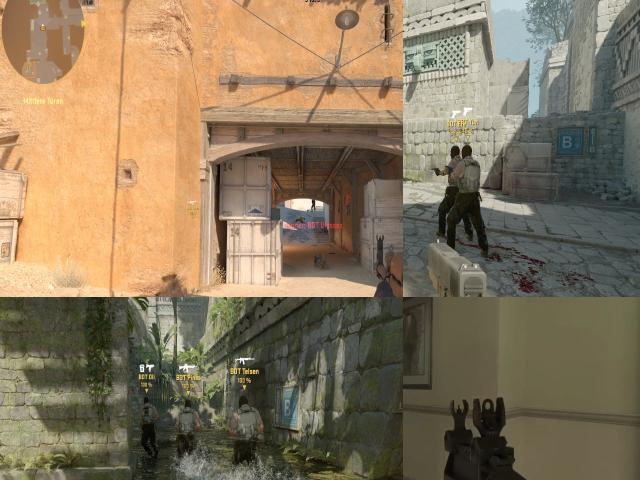Bomb: (142, 402, 151, 420)
CT: (312, 199, 316, 211)
Dead: (314, 253, 326, 267), (296, 216, 306, 222), (322, 224, 328, 234)
T: (452, 140, 483, 250), (227, 391, 263, 480), (172, 396, 204, 480), (438, 142, 464, 236), (138, 394, 159, 467)
T-Head: (459, 142, 474, 165), (237, 394, 252, 413), (448, 145, 460, 161), (181, 398, 195, 411), (140, 394, 153, 406)
